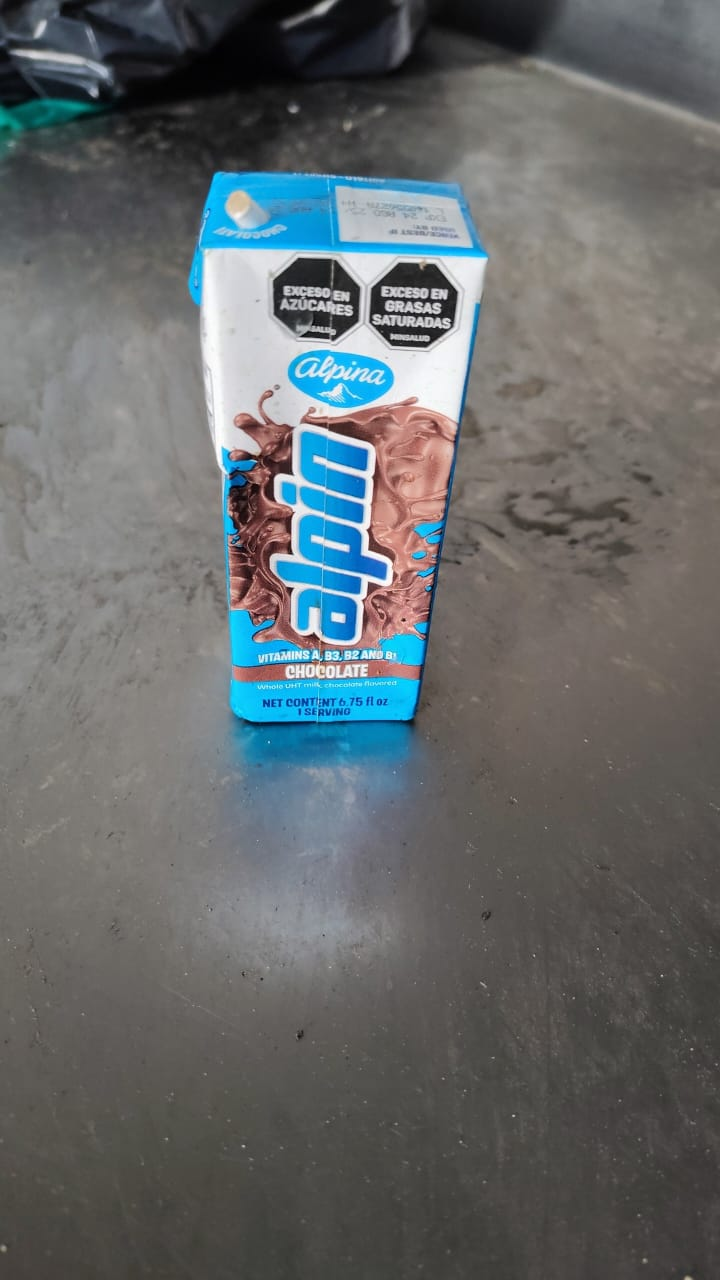Carton: (193, 171, 489, 727)
